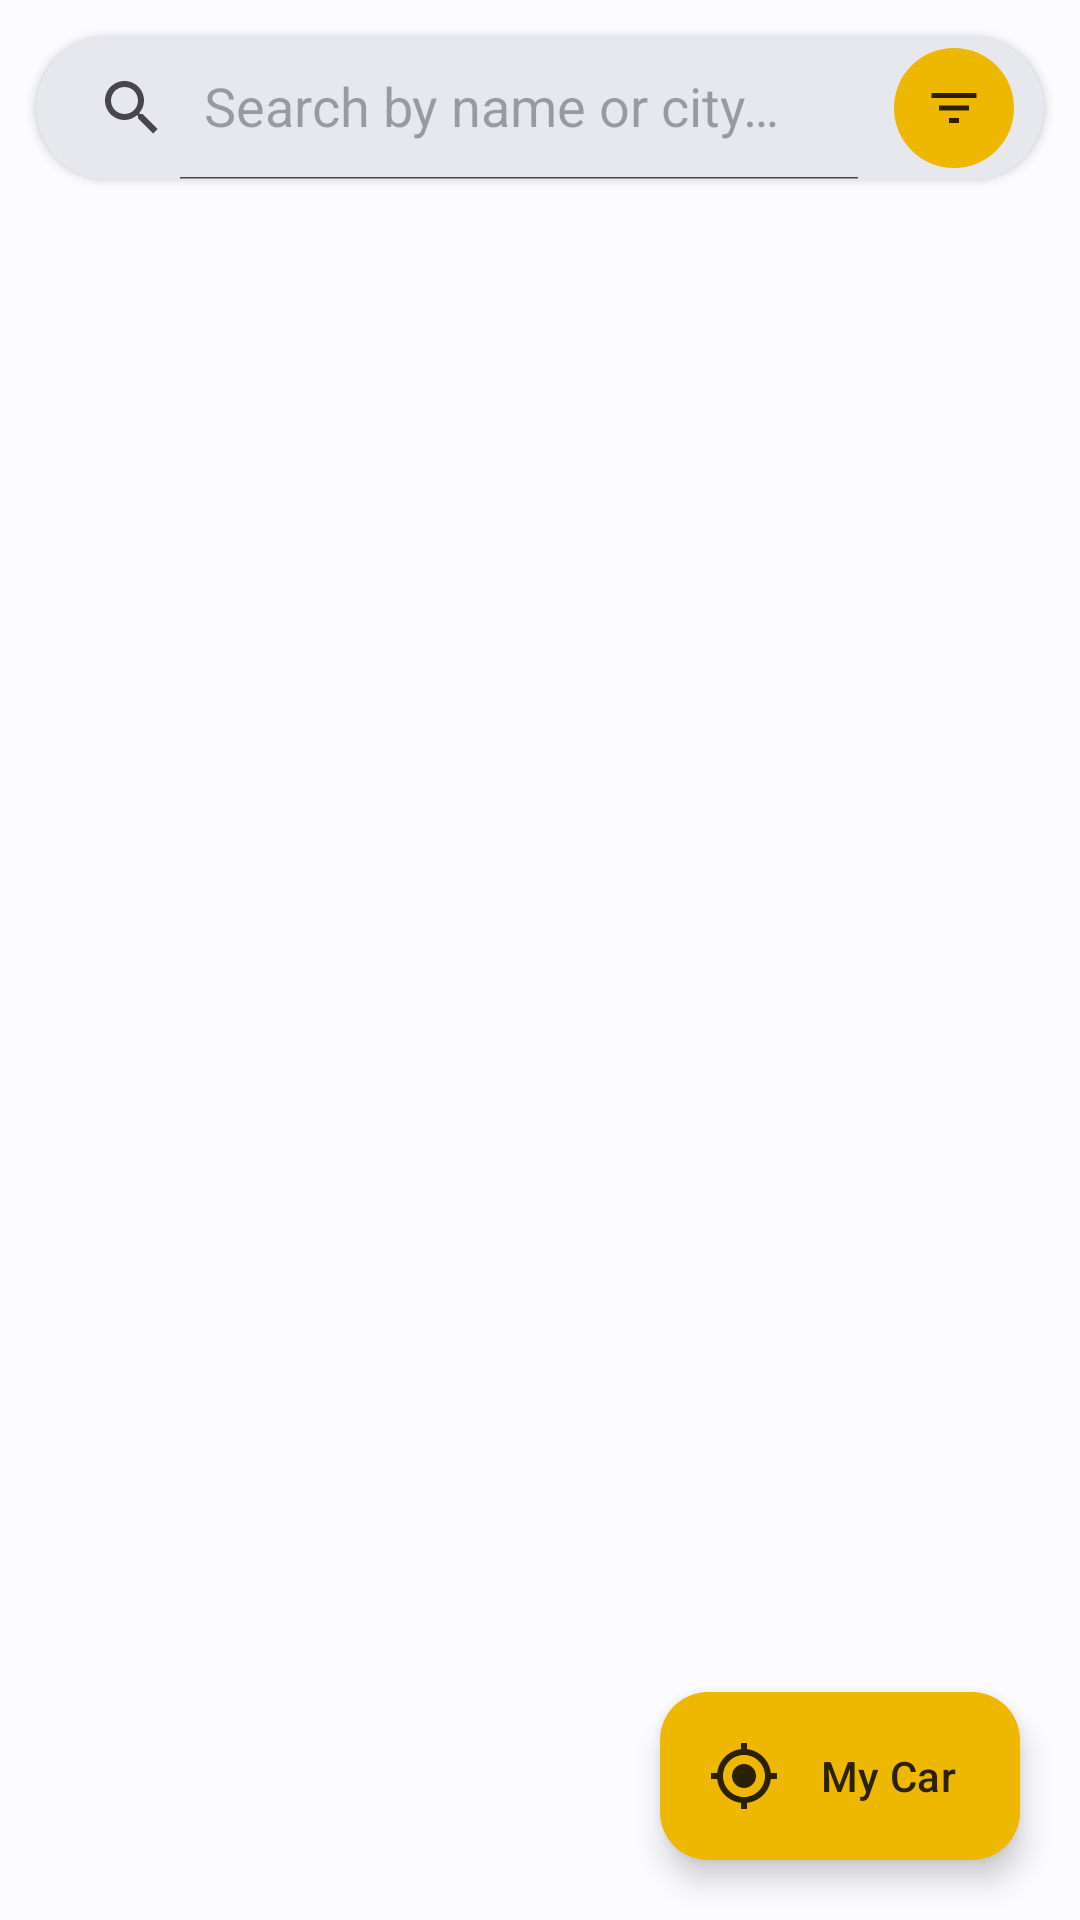

Named icons in this screenshot (1080px×1920px) and their bounding boxes, (x1, y1, x2, y2):
Filters: (894, 48, 1014, 168)
